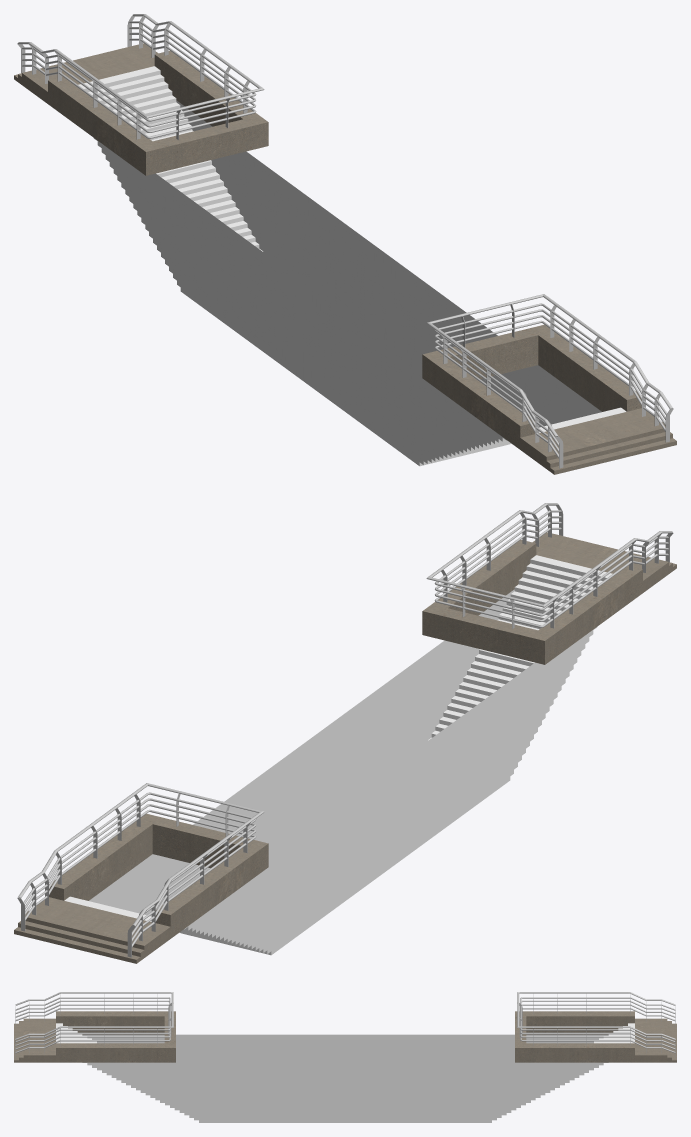
The model's file is 地铁口.fbx.
3 views of the same model, one above another, from view 1: azimuth 30°, elevation 25°; view 2: azimuth 150°, elevation 25°; view 3: azimuth 270°, elevation 25° (orthographic). The views are drawn at different scales.
Parts seen in each view (by area): view 1: 物件_4745, 物件_735, 物件_736, 物件_4771, 物件_4748, 物件_4747, 物件_4749, 物件_4792, 物件_4752, 物件_4751, 物件_4750, 物件_4789 (+5 smaller); view 2: 物件_4745, 物件_736, 物件_735, 物件_4770, 物件_4747, 物件_4748, 物件_4792, 物件_4749, 物件_4789, 物件_4790, 物件_4791, 物件_4752 (+5 smaller); view 3: 物件_4745, 物件_735, 物件_736, 物件_4747, 物件_4748, 物件_4792, 物件_4749, 物件_4752, 物件_4789, 物件_4753, 物件_4788, 物件_4751 (+5 smaller).
Boxes of the visible parts, x1,y1,x2,y2 form: 物件_4745: [94, 100, 601, 465]; 物件_735: [48, 50, 268, 175]; 物件_736: [422, 324, 641, 449]; 物件_4771: [78, 66, 263, 251]; 物件_4748: [520, 408, 676, 474]; 物件_4747: [14, 43, 158, 103]; 物件_4749: [426, 294, 673, 437]; 物件_4792: [17, 14, 264, 118]; 物件_4752: [435, 309, 665, 446]; 物件_4751: [435, 315, 665, 452]; 物件_4750: [435, 320, 665, 458]; 物件_4789: [22, 27, 255, 127]; 物件_4745: [89, 589, 596, 954]; 物件_736: [422, 539, 642, 664]; 物件_735: [49, 813, 268, 938]; 物件_4770: [427, 555, 612, 740]; 物件_4747: [14, 897, 170, 963]; 物件_4748: [532, 532, 676, 592]; 物件_4792: [18, 783, 264, 927]; 物件_4749: [426, 503, 672, 607]; 物件_4789: [25, 798, 255, 935]; 物件_4790: [25, 804, 255, 941]; 物件_4791: [25, 809, 255, 947]; 物件_4752: [435, 516, 668, 616]; 物件_4745: [82, 1034, 608, 1122]; 物件_735: [515, 1011, 634, 1062]; 物件_736: [56, 1011, 175, 1062]; 物件_4747: [635, 1018, 676, 1062]; 物件_4748: [14, 1018, 55, 1062]; 物件_4792: [517, 992, 675, 1039]; 物件_4749: [15, 992, 173, 1039]; 物件_4752: [15, 1000, 170, 1045]; 物件_4789: [520, 1000, 675, 1045]; 物件_4753: [15, 997, 170, 1042]; 物件_4788: [520, 997, 675, 1042]; 物件_4751: [15, 1004, 170, 1049].
Size of the model in its own units: 536 by 680 by 4095.
